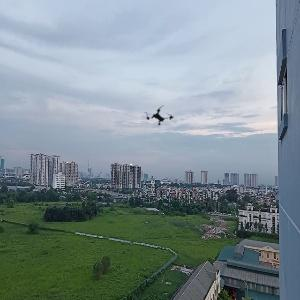drone: (133, 91, 187, 145)
